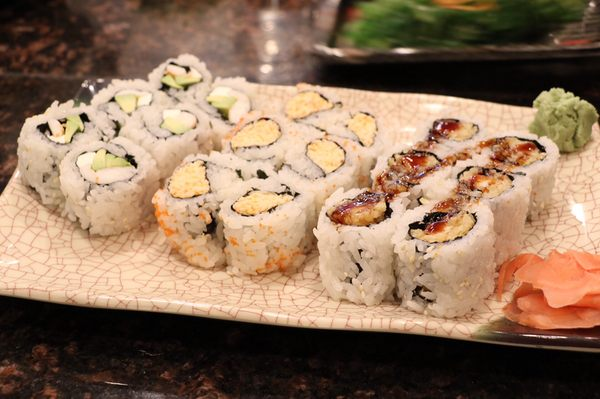sushi: (314, 120, 555, 316)
